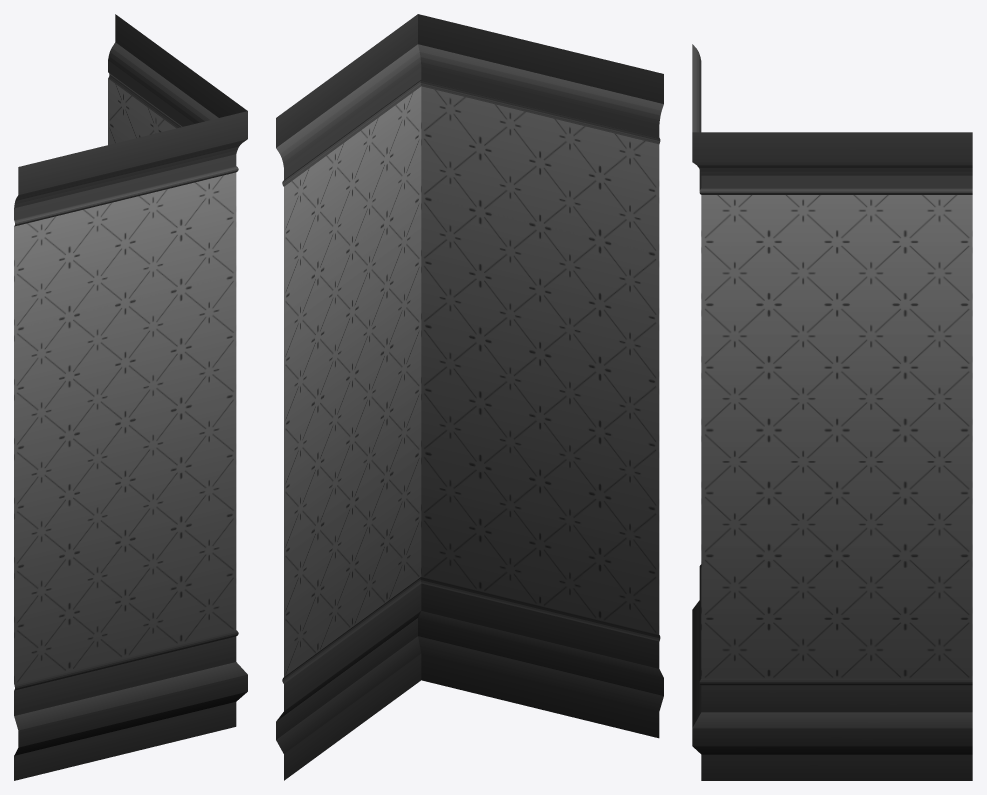
File: Wall_02_Ext_Dark.fbx
3 views of the same model, side by side, from view 1: azimuth 30°, elevation 25°; view 2: azimuth 150°, elevation 25°; view 3: azimuth 270°, elevation 25° (orthographic). The views are drawn at different scales.
Parts seen in each view (by area): view 1: Wall_02_Ext_Dark; view 2: Wall_02_Ext_Dark; view 3: Wall_02_Ext_Dark.
Boxes of the visible parts, x1,y1,x2,y2 form: Wall_02_Ext_Dark: [14, 14, 247, 780]; Wall_02_Ext_Dark: [276, 14, 663, 780]; Wall_02_Ext_Dark: [692, 44, 972, 780].
Bounding box in the file's own units: 1.03 × 2.65 × 1.03.
